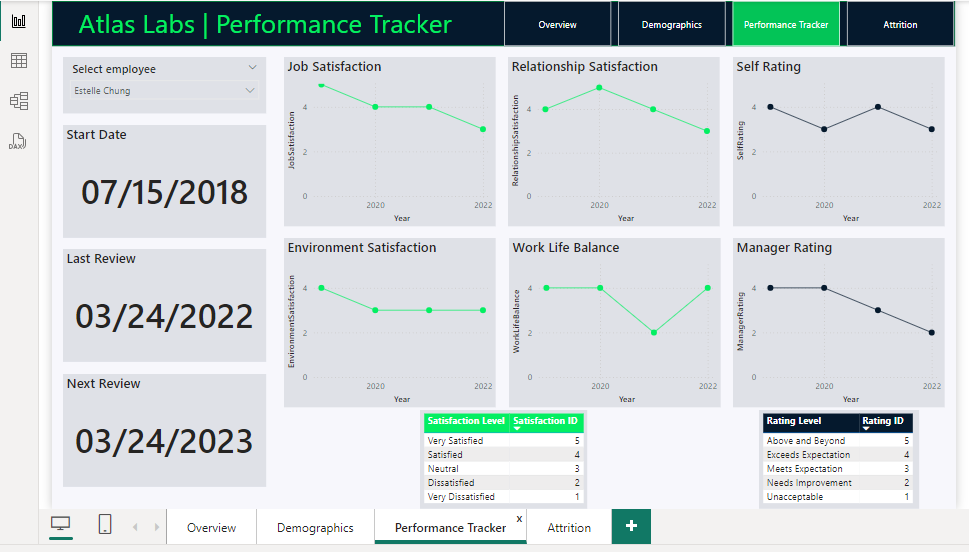

Layout of this report page (visuals, bound fields, positions):
{"tool":"powerbi","page":{"name":"Performance Tracker","canvas":[1280,720],"ordinal":2},"visuals":[{"type":"shape","box":[0,0,1280,64],"z":0},{"type":"textbox","box":[32,0,624,64],"z":1000},{"type":"pageNavigator","box":[640,0,640,64],"z":2000},{"type":"slicer","fields":{"Values":["DimEmployee.FullName"]},"box":[16,80,288,80],"z":3000},{"type":"card","title":"Start Date","fields":{"Values":["Min(DimEmployee.HireDate)"]},"box":[16,176,288,160],"z":4000},{"type":"card","title":"Last Review","fields":{"Values":["_Measures.LastReviewDate"]},"box":[16,352,288,160],"z":5000},{"type":"card","title":"Next Review","fields":{"Values":["_Measures.NextReviewDate"]},"box":[16,528,288,160],"z":6000},{"type":"lineChart","title":"Job Satisfaction","fields":{"Y":["_Measures.JobSatisfaction"],"Category":["DimDate.Year"]},"box":[328.3,79.8,300,240.3],"z":7000},{"type":"lineChart","title":"Relationship Satisfaction","fields":{"Y":["_Measures.RelationshipSatisfaction"],"Category":["DimDate.Year"]},"box":[646.9,79.8,300,240.3],"z":8000},{"type":"lineChart","title":"Self Rating","fields":{"Y":["_Measures.SelfRating"],"Category":["DimDate.Year"]},"box":[965.5,79.8,299.7,240.3],"z":9000},{"type":"lineChart","title":"Work Life Balance","fields":{"Y":["_Measures.WorkLifeBalance"],"Category":["DimDate.Year"]},"box":[647.4,335.5,299.7,240.3],"z":10000},{"type":"lineChart","title":"Manager Rating","fields":{"Y":["_Measures.ManagerRating"],"Category":["DimDate.Year"]},"box":[965.5,335.5,299.7,240.3],"z":11000},{"type":"lineChart","title":"Environment Satisfaction","fields":{"Y":["_Measures.EnvironmentSatisfaction"],"Category":["DimDate.Year"]},"box":[328.3,335.5,300,240.3],"z":12000},{"type":"tableEx","fields":{"Values":["DimRatingLevel.RatingLevel","DimRatingLevel.RatingID"]},"box":[1002.3,579.9,227,140.1],"z":13000},{"type":"tableEx","fields":{"Values":["DimSatisfiedLevel.SatisfactionLevel","DimSatisfiedLevel.SatisfactionID"]},"box":[521.6,579.9,237.3,140.1],"z":14000}]}

Visuals, with their boxes on the page's 1280x720 design canvas (x1, y1, x2, y2). These are canvas units, not pixel positions in the 969x552 screenshot, which may show the page scaled, cropped or inside an application window:
shape: detection(0, 0, 1280, 64)
textbox: detection(32, 0, 656, 64)
pageNavigator: detection(640, 0, 1280, 64)
slicer - DimEmployee.FullName: detection(16, 80, 304, 160)
"Start Date" card: detection(16, 176, 304, 336)
"Last Review" card: detection(16, 352, 304, 512)
"Next Review" card: detection(16, 528, 304, 688)
"Job Satisfaction" lineChart: detection(328, 80, 628, 320)
"Relationship Satisfaction" lineChart: detection(647, 80, 947, 320)
"Self Rating" lineChart: detection(966, 80, 1265, 320)
"Work Life Balance" lineChart: detection(647, 336, 947, 576)
"Manager Rating" lineChart: detection(966, 336, 1265, 576)
"Environment Satisfaction" lineChart: detection(328, 336, 628, 576)
tableEx - DimRatingLevel.RatingLevel x DimRatingLevel.RatingID: detection(1002, 580, 1229, 720)
tableEx - DimSatisfiedLevel.SatisfactionLevel x DimSatisfiedLevel.SatisfactionID: detection(522, 580, 759, 720)
